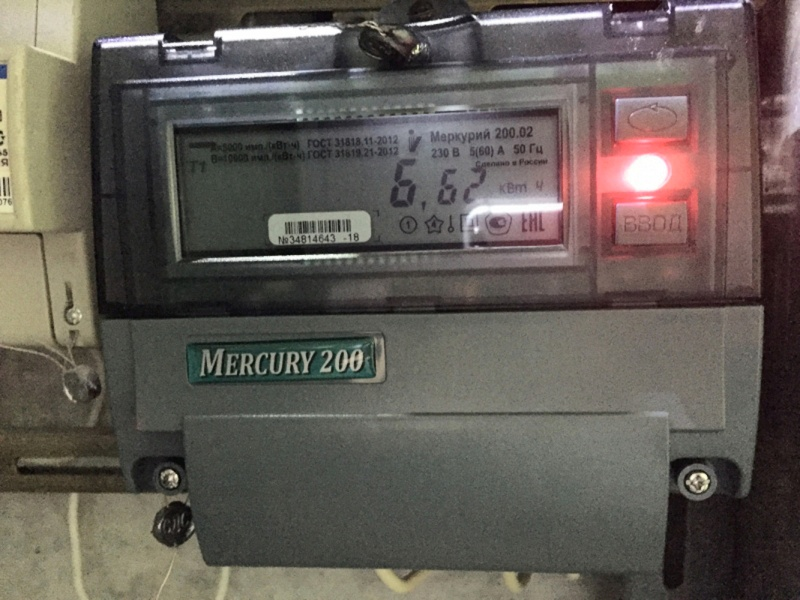counter: (86, 3, 769, 588)
counter_screen: (167, 94, 575, 266)
